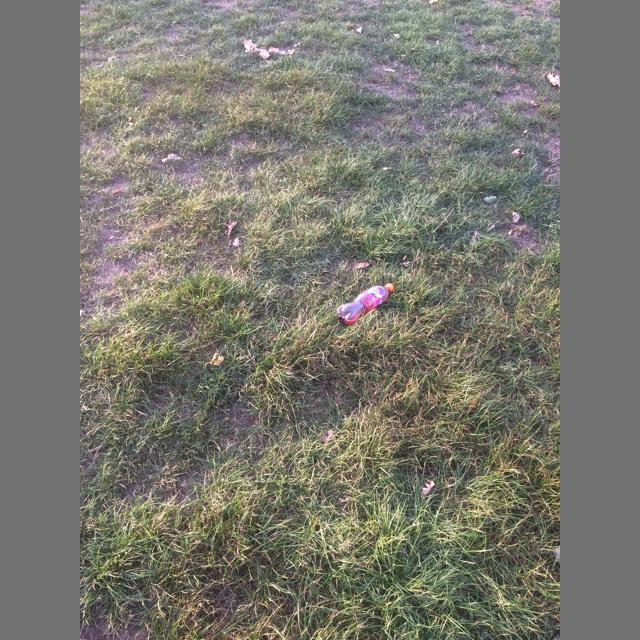litter: (337, 283, 394, 325), (387, 283, 394, 292)
